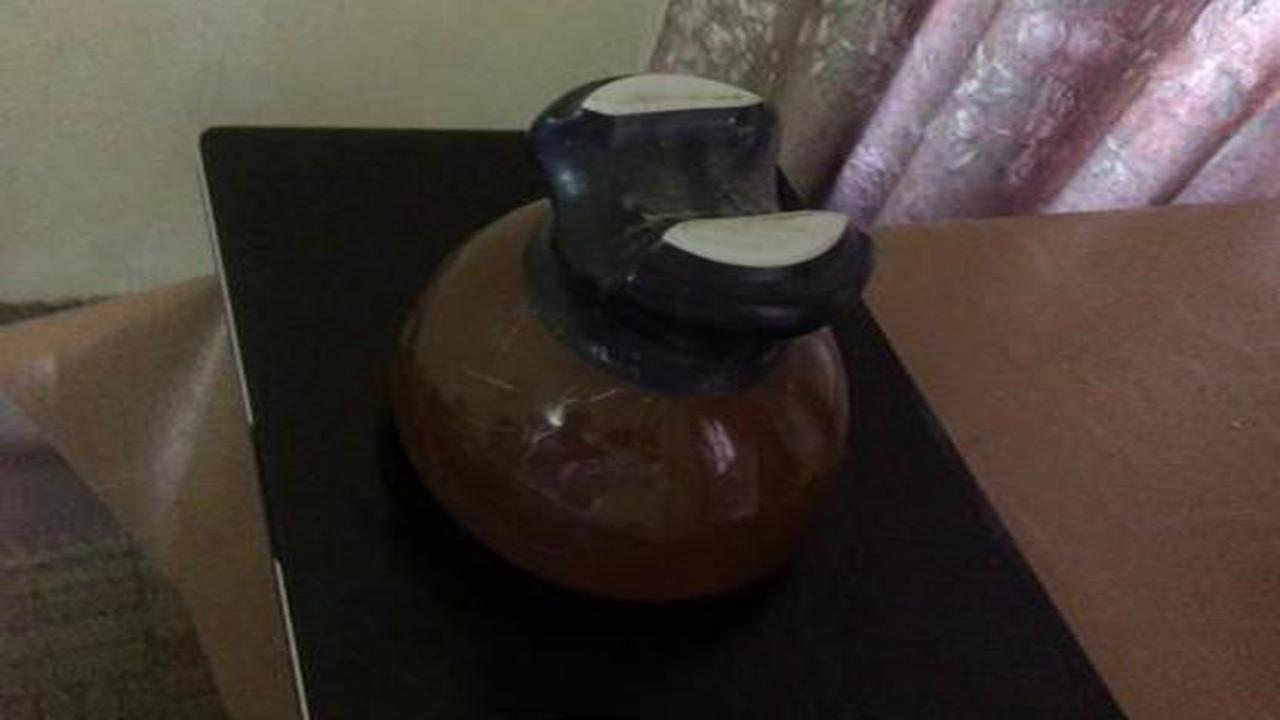insulator_pin: (367, 51, 896, 625)
